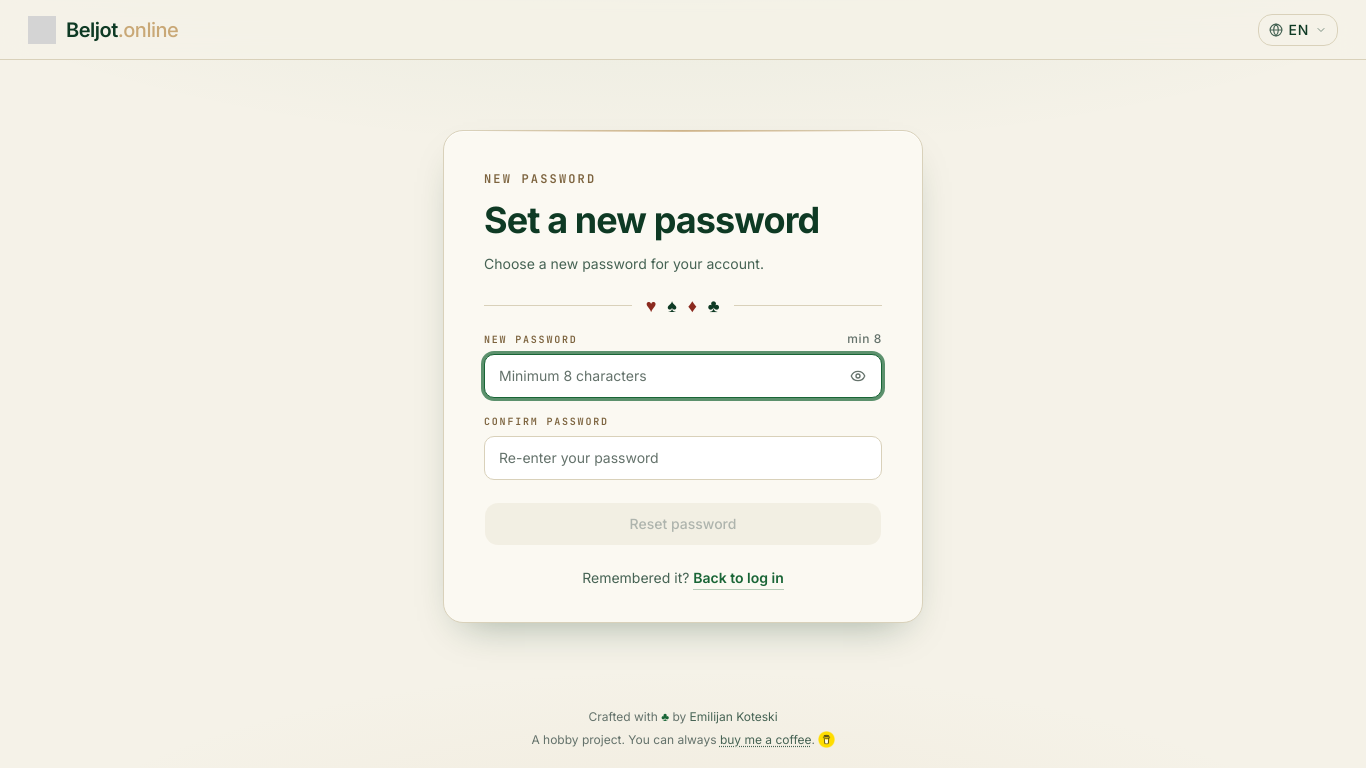
Test: ResetPasswordPage › shows a mismatch error when passwords differ
This screenshot has width=1366, height=768.
Type "brandnewpass1" into the password field with test id "password-input" at (683, 376), box [484, 354, 882, 398]
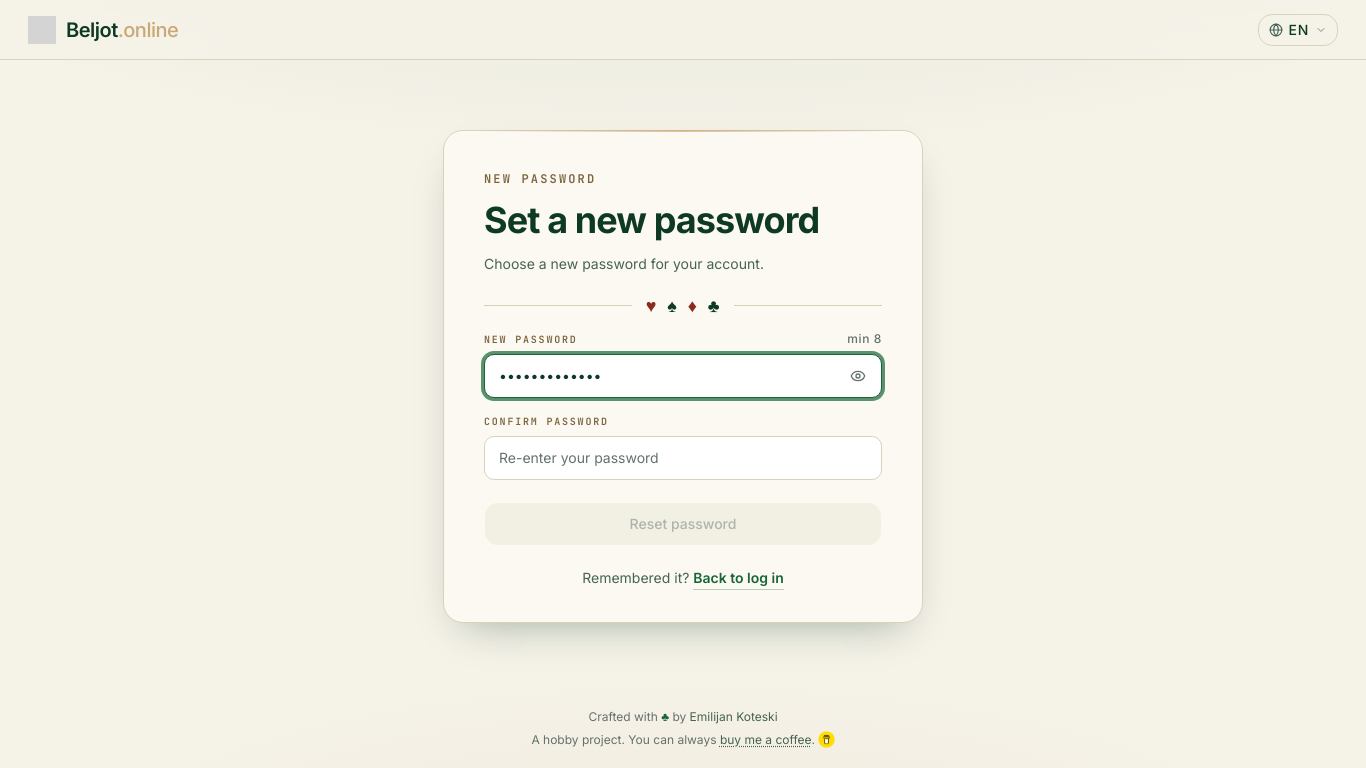
Type "different99" into the password field with test id "confirm-input" at (683, 458), box [484, 436, 882, 480]
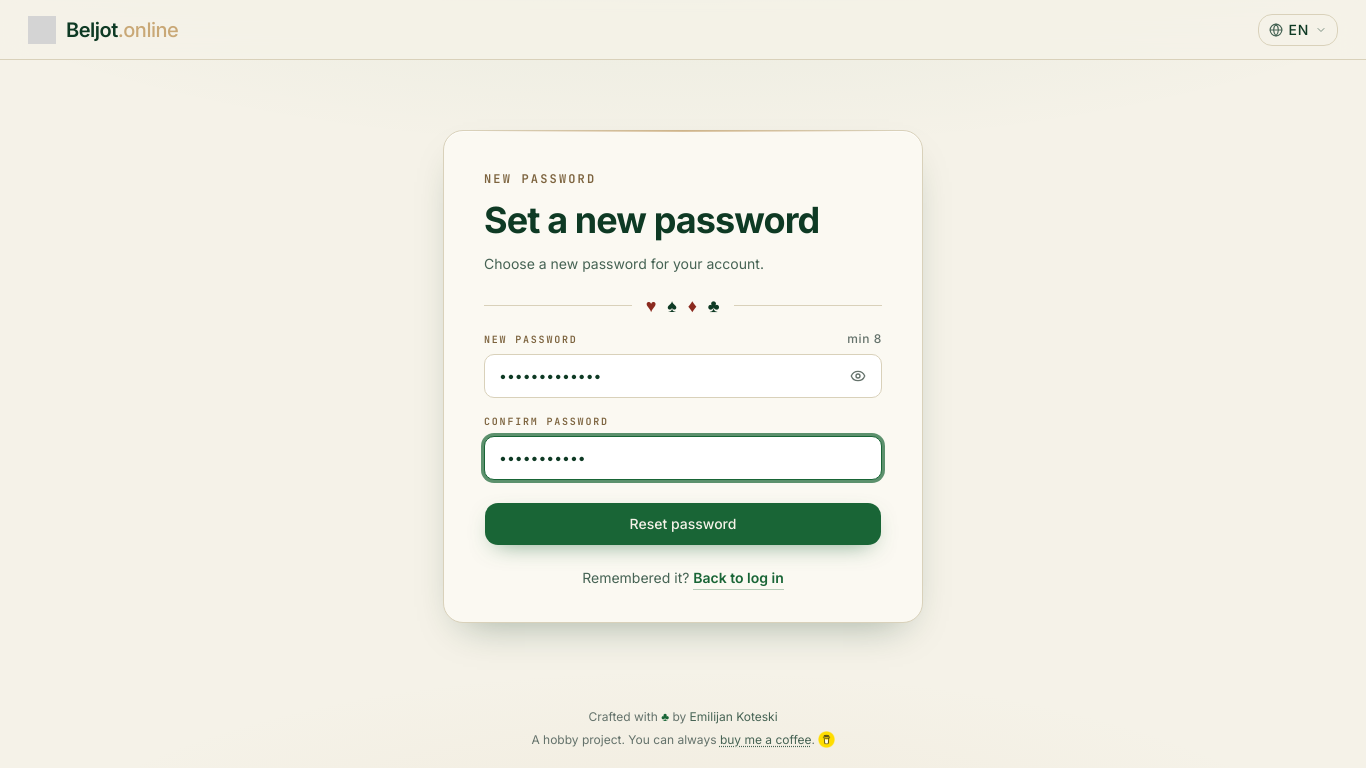
Click the button with test id "submit-button" at (683, 524), box [484, 502, 882, 546]
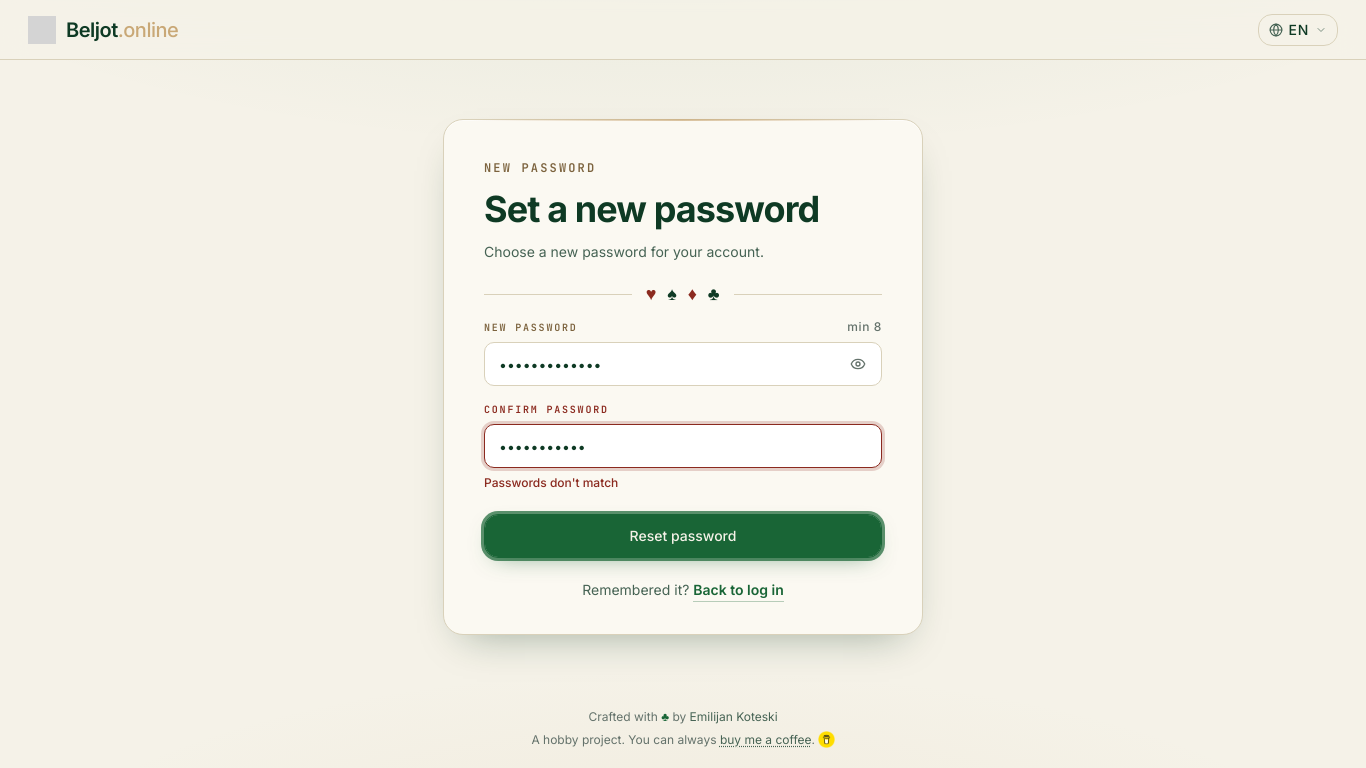
Expected: the text with test id "confirm-error" reads "Passwords don't match", [484, 475, 618, 490]
